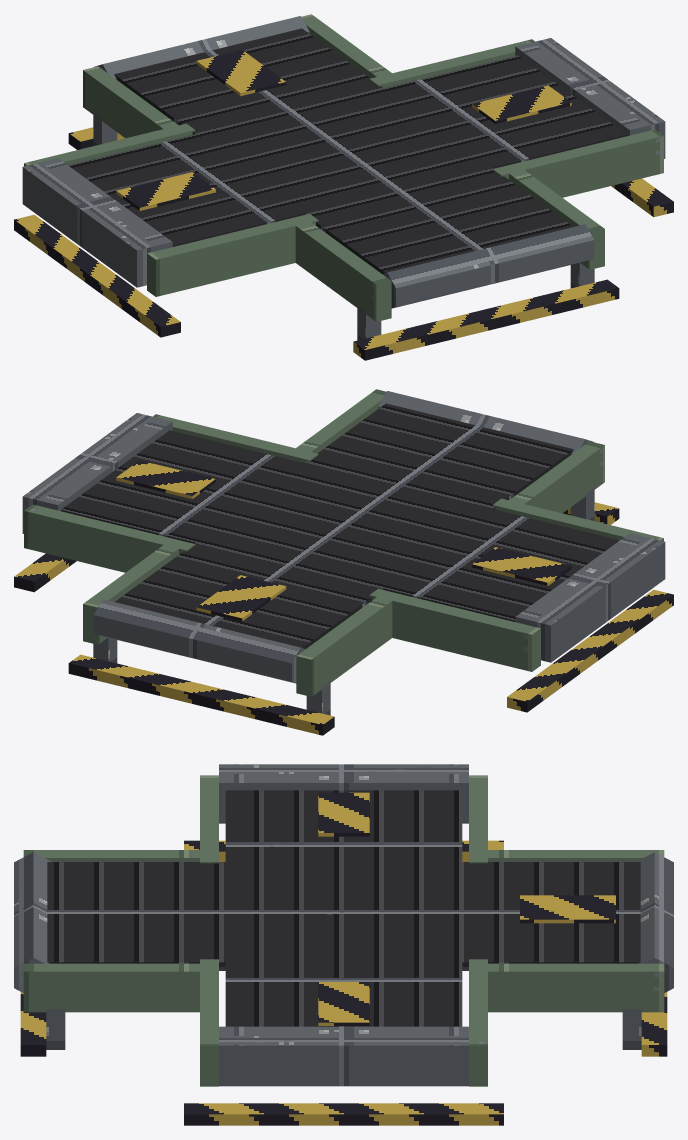
File: machinery__conveyor_merger.glb
The picture shows the model from 3 angles, top to bottom: view 1: azimuth 30°, elevation 25°; view 2: azimuth 150°, elevation 25°; view 3: azimuth 270°, elevation 25°; orthographic projection. The views are drawn at different scales.
Parts seen in each view (by area): view 1: _MeshInstance3D_68, _MeshInstance3D_70, _MeshInstance3D_67, _MeshInstance3D_69; view 2: _MeshInstance3D_68, _MeshInstance3D_70, _MeshInstance3D_67, _MeshInstance3D_69; view 3: _MeshInstance3D_68, _MeshInstance3D_67, _MeshInstance3D_70, _MeshInstance3D_69.
Part boxes in pixels (x1=…): _MeshInstance3D_68: x1=68, y1=28, x2=626, y2=273; _MeshInstance3D_70: x1=24, y1=14, x2=663, y2=321; _MeshInstance3D_67: x1=22, y1=16, x2=665, y2=340; _MeshInstance3D_69: x1=14, y1=50, x2=673, y2=360; _MeshInstance3D_68: x1=61, y1=403, x2=619, y2=648; _MeshInstance3D_70: x1=24, y1=389, x2=663, y2=696; _MeshInstance3D_67: x1=22, y1=391, x2=665, y2=715; _MeshInstance3D_69: x1=14, y1=460, x2=673, y2=735; _MeshInstance3D_68: x1=47, y1=790, x2=640, y2=1026; _MeshInstance3D_67: x1=14, y1=764, x2=673, y2=1086; _MeshInstance3D_70: x1=23, y1=775, x2=664, y2=1086; _MeshInstance3D_69: x1=20, y1=792, x2=667, y2=1125.
Bounding box in the file's own units: 2.08 × 0.29 × 2.06.
Materials: 4 (4 with a texture image).
